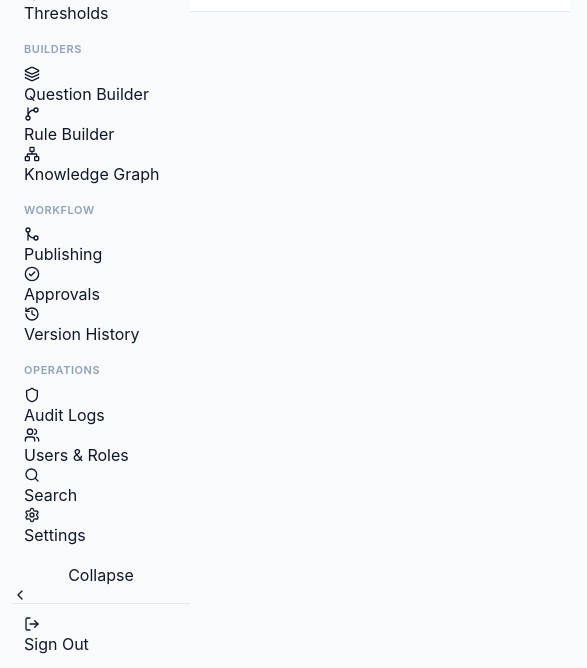
Sidebar collapse toggle › DoctorLayout renders a collapse button that shrinks the sidebar
(page scrolled)
Click the button with aria-label "Collapse sidebar".
click(101, 582)  # box x1=12 y1=562 x2=190 y2=602
(page scrolled)
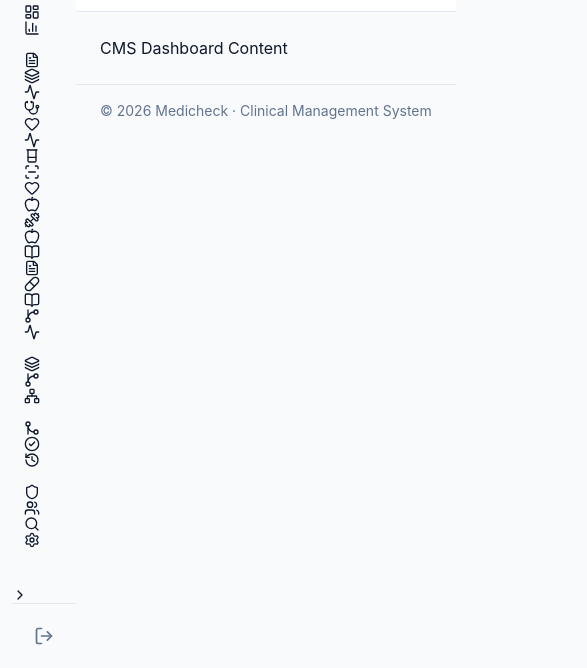
Result: the button named "Expand sidebar" is shown at x1=12 y1=587 x2=76 y2=603
